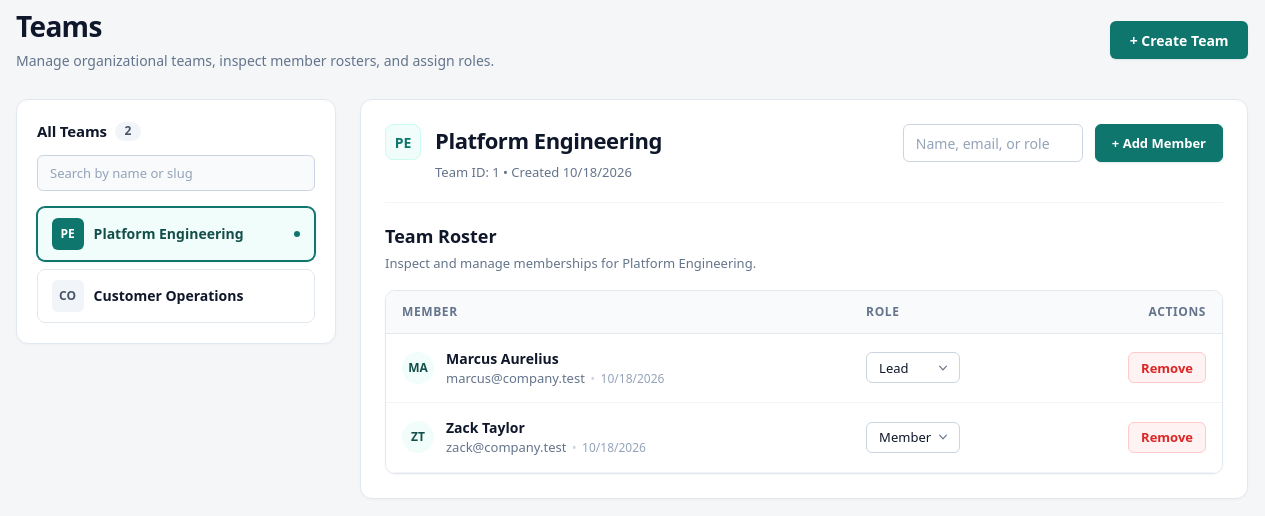
Test: AdminTeams Page › allows selecting another team from the directory and updates the roster workspace
Check: the text "Customer Operations" is shown, box left=94, top=286, right=243, bottom=305
Check: the text "Marcus Aurelius" is shown, box left=446, top=349, right=559, bottom=368
Step 1. Click the button "CO Customer Operations" → (176, 296), box left=37, top=268, right=315, bottom=322
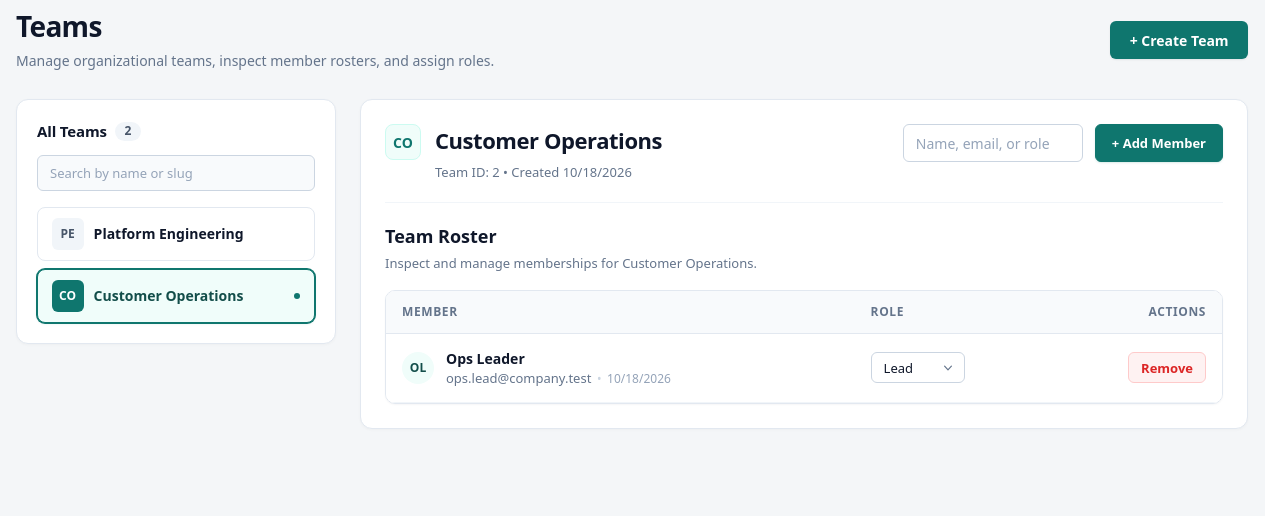
Check: the heading "Customer Operations" is shown, box left=435, top=124, right=662, bottom=157
Check: the text "Ops Leader" is shown, box left=446, top=349, right=525, bottom=368
Check: the text "Marcus Aurelius" is gone
